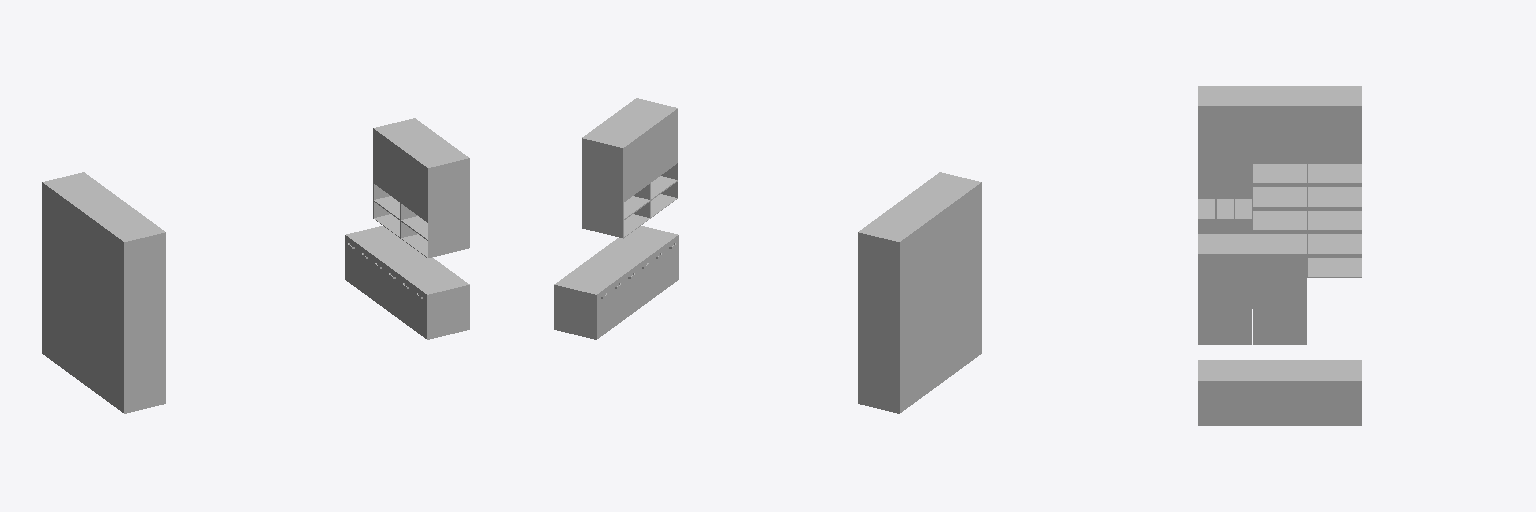
File: CT Sim Room_Shelf.obj
3 views of the same model, side by side, from view 1: azimuth 30°, elevation 25°; view 2: azimuth 150°, elevation 25°; view 3: azimuth 270°, elevation 25° (orthographic).
Parts seen in each view (by area): view 1: FIJO_212_1, FIJO_167, FIJO_212_2, FIJO_166_2, pCube1, FIJO_166_1, FIJO_152_1, FIJO_135_1, FIJO_152_2, FIJO_135_R_1, FIJO_135_L_1, FIJO_135_R_2 (+3 smaller); view 2: FIJO_212_1, FIJO_166_2, FIJO_212_2, pCube1, FIJO_167, FIJO_166_1, FIJO_152_2, FIJO_135_3, FIJO_152_1, FIJO_135_L_3, FIJO_135_R_3, FIJO_135_R_1 (+3 smaller); view 3: FIJO_212_1, FIJO_212_2, FIJO_166_2, FIJO_167, FIJO_166_1, pCube1, FIJO_135_1, FIJO_135_3, FIJO_135_2, FIJO_152_1, FIJO_152_2.
Part boxes in pixels (x1,y1,x2,y2): FIJO_212_1: (42,172,165,296); FIJO_167: (97,277,165,413); FIJO_212_2: (373,118,469,221); FIJO_166_2: (42,237,69,373); pCube1: (346,226,469,294); FIJO_166_1: (70,257,96,393); FIJO_152_1: (401,203,469,257); FIJO_135_1: (428,285,469,339); FIJO_152_2: (373,183,400,238); FIJO_135_R_1: (414,286,427,339); FIJO_135_L_1: (400,276,413,329); FIJO_135_R_2: (386,265,399,319); FIJO_212_1: (858,172,981,296); FIJO_166_2: (858,277,926,413); FIJO_212_2: (582,98,677,201); pCube1: (554,226,677,294); FIJO_167: (954,237,981,373); FIJO_166_1: (927,257,953,393); FIJO_152_2: (582,183,650,238); FIJO_135_3: (554,285,595,339); FIJO_152_1: (651,163,677,217); FIJO_135_L_3: (596,286,609,339); FIJO_135_R_3: (610,276,623,329); FIJO_135_R_1: (665,235,678,289); FIJO_212_1: (1198,86,1361,159); FIJO_212_2: (1198,234,1306,308); FIJO_166_2: (1307,160,1361,277); FIJO_167: (1198,160,1252,233); FIJO_166_1: (1253,160,1306,233); pCube1: (1198,360,1361,380); FIJO_135_1: (1198,381,1252,425); FIJO_135_3: (1307,381,1361,425); FIJO_135_2: (1253,381,1306,425); FIJO_152_1: (1198,309,1251,344); FIJO_152_2: (1253,309,1306,344).
Bounding box in the file's own units: 60 × 28.5 × 24.75.